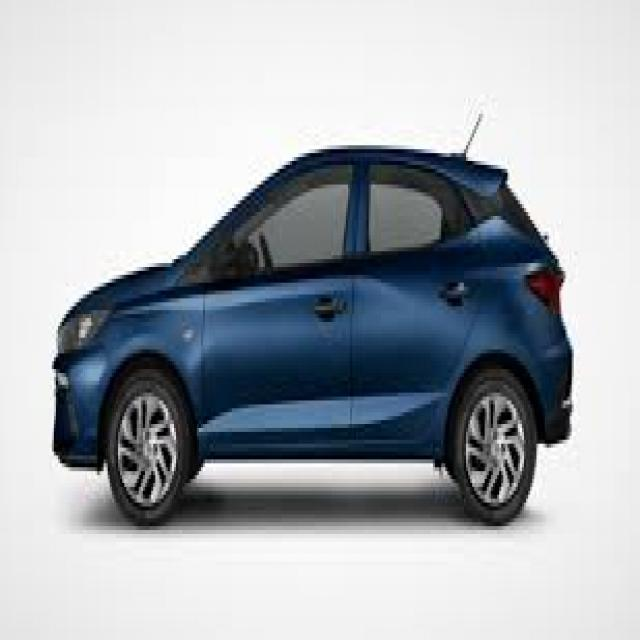car: (47, 105, 574, 565)
